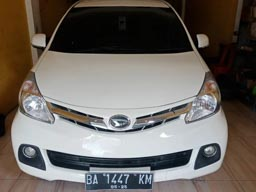plat: (84, 174, 154, 185)
